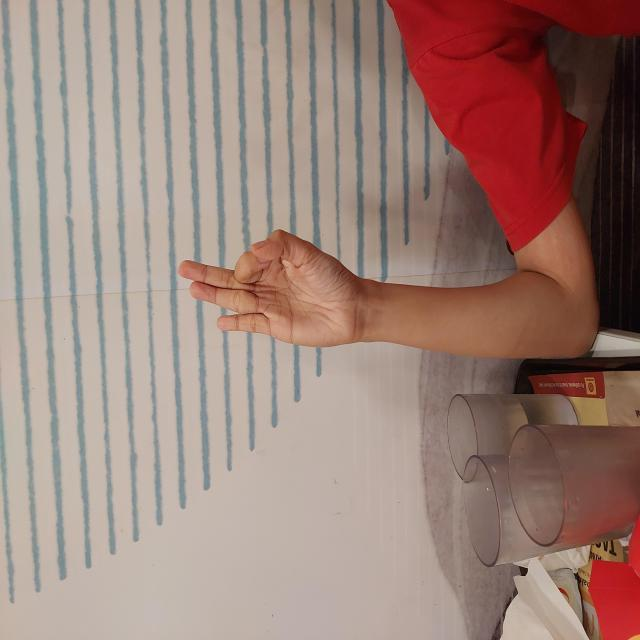F: (291, 177, 413, 366)
